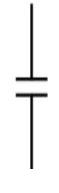Capacitor: (8, 68, 53, 105)
